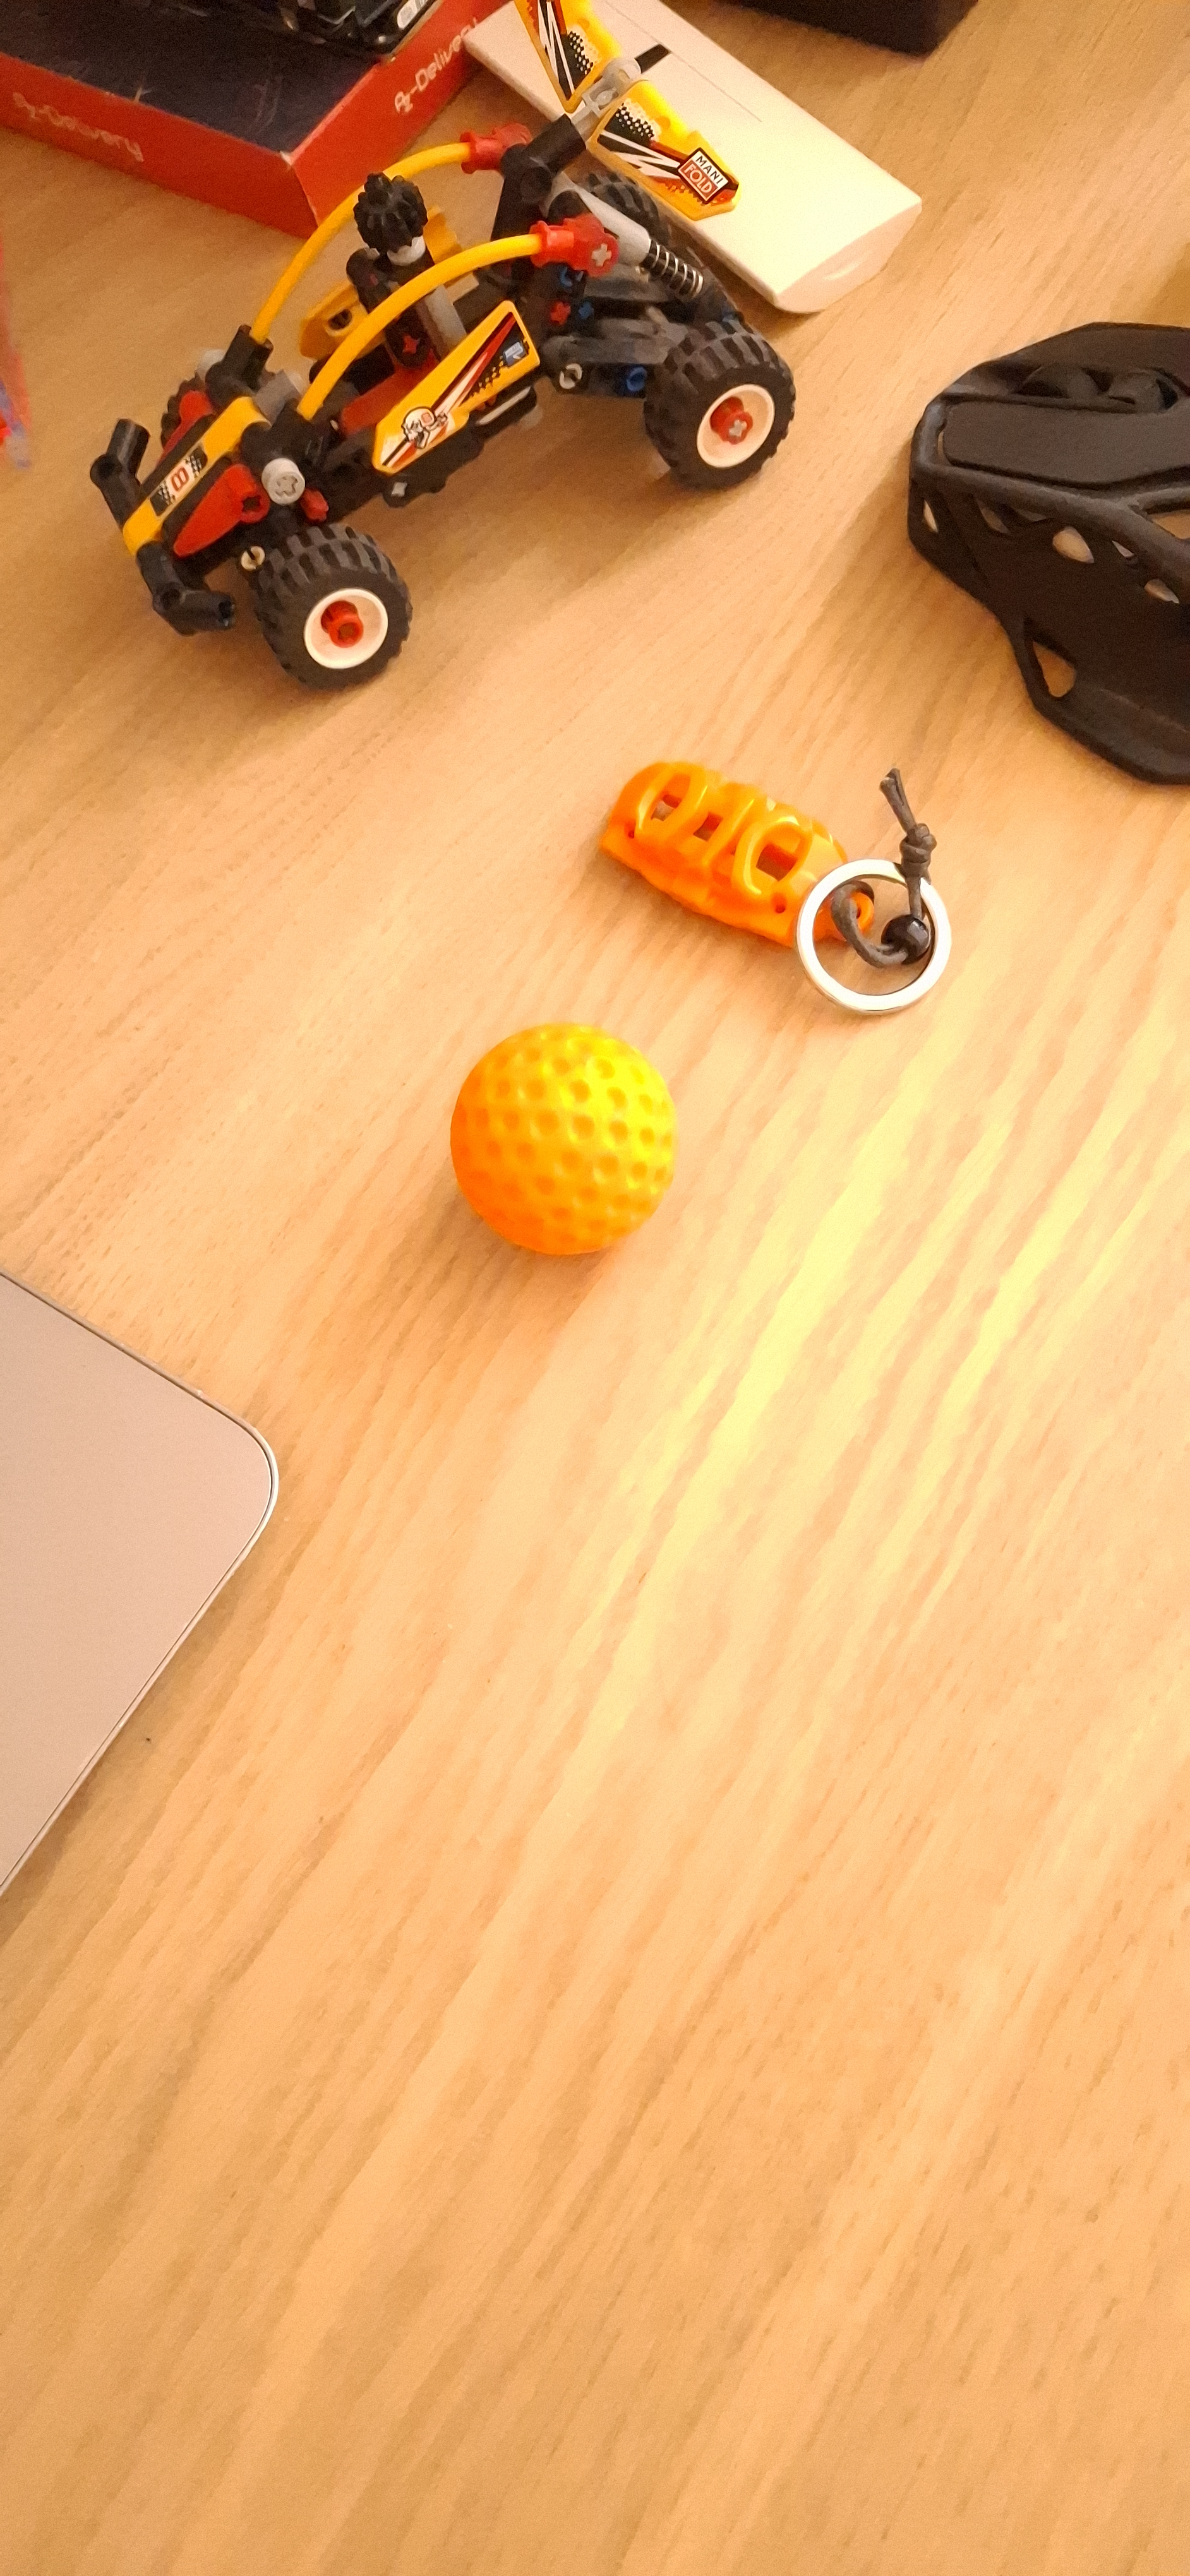ball: (472, 1109, 582, 1608)
